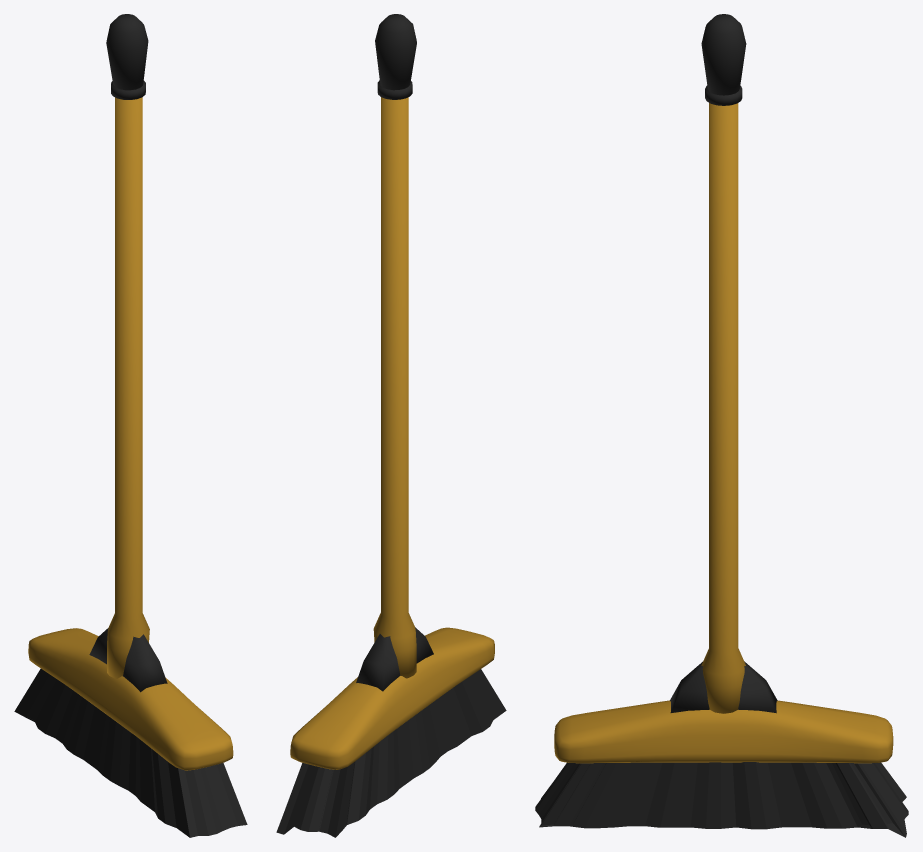
The model's file is {Model} Broom.fbx.
3 views of the same model, side by side, from view 1: azimuth 30°, elevation 25°; view 2: azimuth 150°, elevation 25°; view 3: azimuth 270°, elevation 25° (orthographic). The views are drawn at different scales.
Visible parts, largest first — view 1: Circle.001; view 2: Circle.001; view 3: Circle.001.
Boxes of the visible parts, bbox=[...] form: Circle.001: bbox=[14, 14, 247, 837]; Circle.001: bbox=[276, 14, 506, 837]; Circle.001: bbox=[535, 14, 908, 837].
Size of the model in its own units: 3.01 by 34.14 by 14.39.
